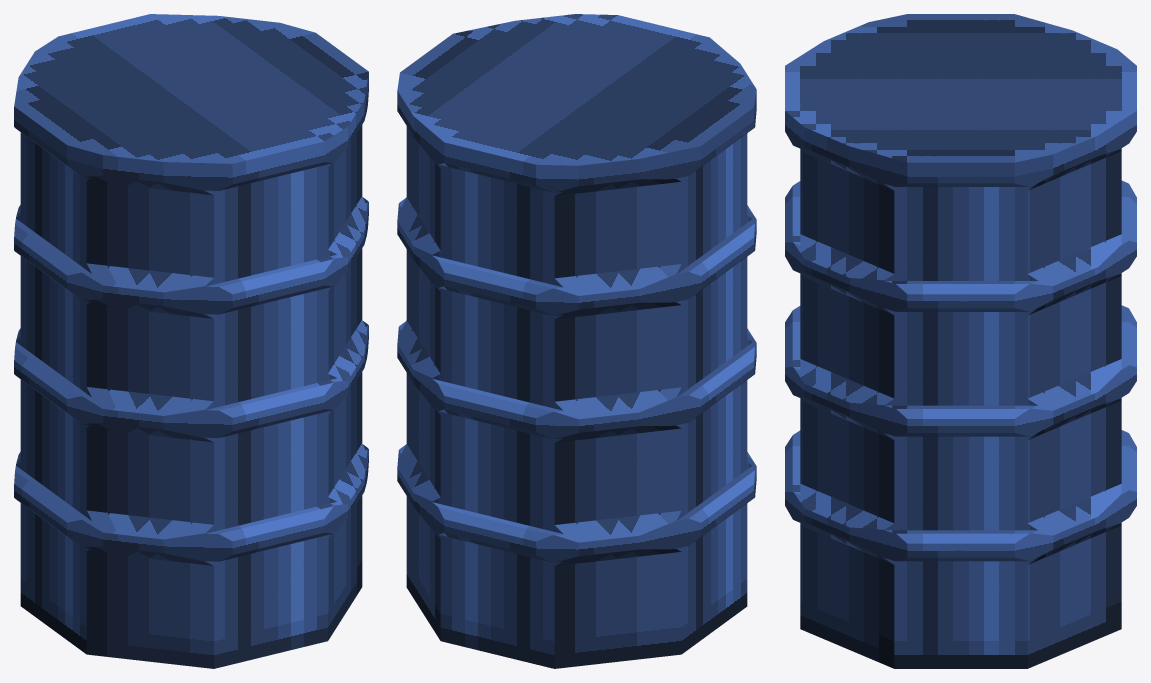
Rendered from metal barrel.glb.
The picture shows the model from 3 angles, left to right: view 1: azimuth 30°, elevation 25°; view 2: azimuth 150°, elevation 25°; view 3: azimuth 270°, elevation 25°; orthographic projection.
Visible parts, largest first — view 1: metal barrel; view 2: metal barrel; view 3: metal barrel.
Boxes of the visible parts, x1,y1,x2,y2 form: metal barrel: (14, 14, 368, 668); metal barrel: (397, 14, 756, 668); metal barrel: (785, 14, 1136, 668).
Size of the model in its own units: 0.7188 by 1.16 by 0.7188.
Materials: 1 (1 with a texture image).
